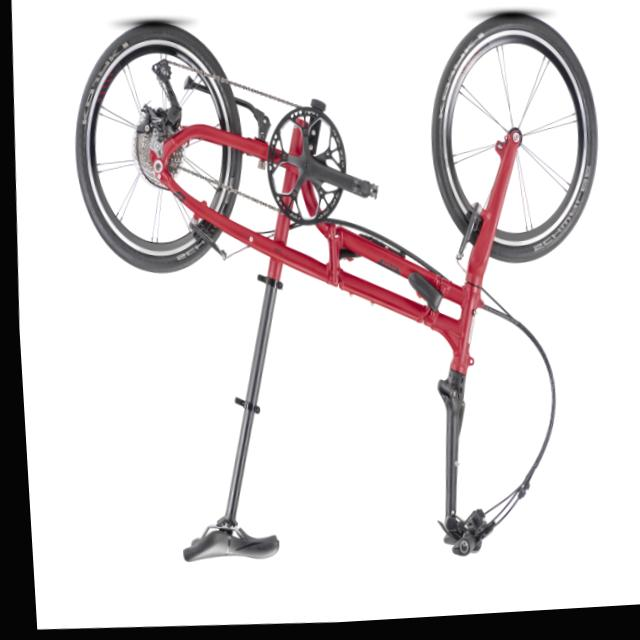folding-bike: (51, 0, 620, 586)
